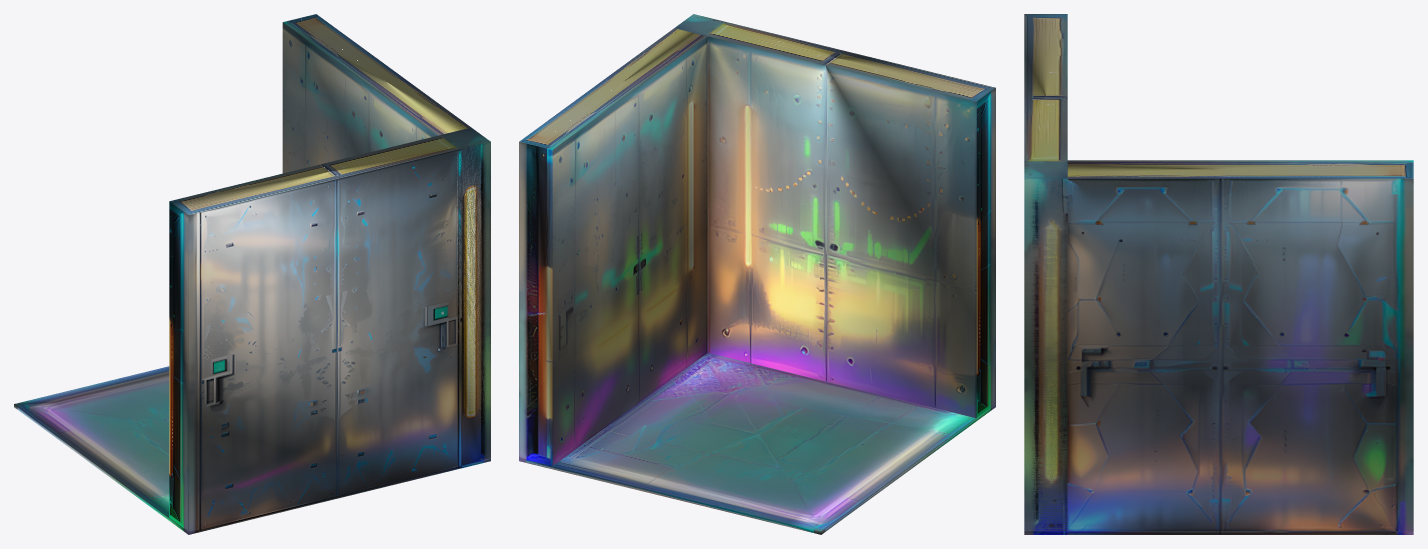
Rendered from residentialBasicFloorWall2.glb.
3 renders of one model, left to right at view 1: azimuth 30°, elevation 25°; view 2: azimuth 150°, elevation 25°; view 3: azimuth 270°, elevation 25°, orthographic. The views are drawn at different scales.
Visible parts, largest first — view 1: residentialBasicFloorWall2; view 2: residentialBasicFloorWall2; view 3: residentialBasicFloorWall2.
Boxes of the visible parts, x1=… form: residentialBasicFloorWall2: x1=14, y1=14, x2=490, y2=534; residentialBasicFloorWall2: x1=519, y1=14, x2=995, y2=534; residentialBasicFloorWall2: x1=1024, y1=14, x2=1413, y2=534.
Bounding box in the file's own units: 1 × 1.01 × 1.
Materials: 1 (1 with a texture image).
